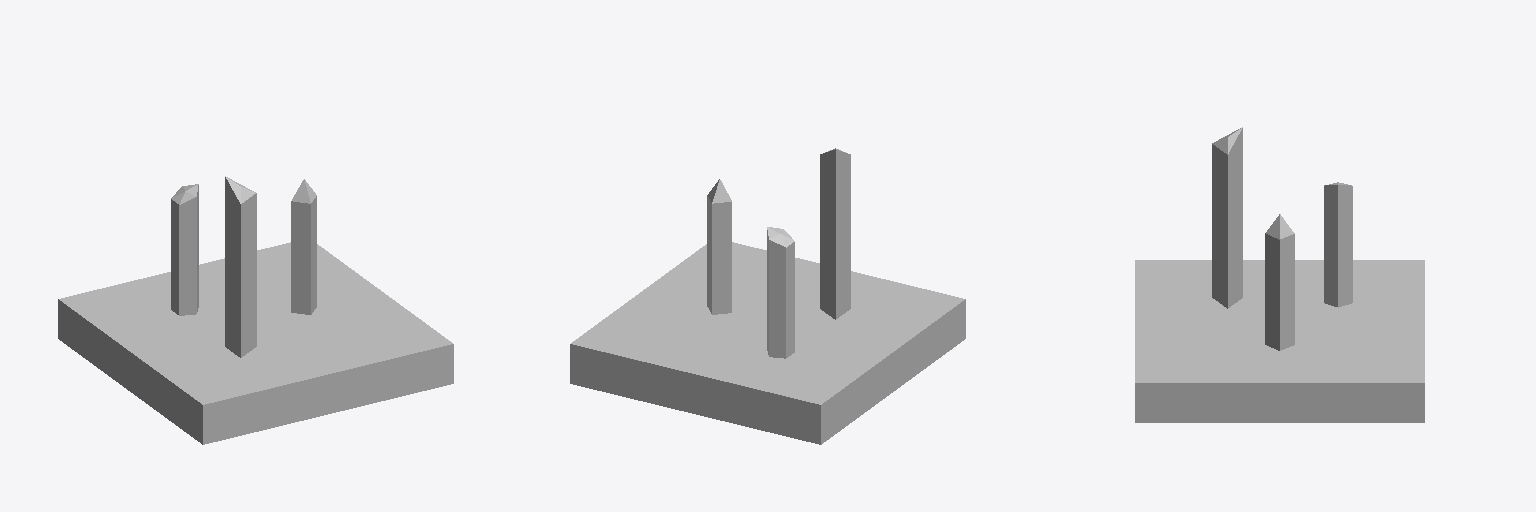
File: conn03.obj
The picture shows the model from 3 angles: view 1: azimuth 30°, elevation 25°; view 2: azimuth 150°, elevation 25°; view 3: azimuth 270°, elevation 25°; orthographic projection.
Visible parts, largest first — view 1: conn04:pCube41; view 2: conn04:pCube41; view 3: conn04:pCube41.
Boxes of the visible parts, x1,y1,x2,y2 form: conn04:pCube41: [58, 176, 453, 444]; conn04:pCube41: [570, 148, 965, 444]; conn04:pCube41: [1135, 127, 1424, 422].
Bounding box in the file's own units: 16.11 × 12.95 × 16.11.